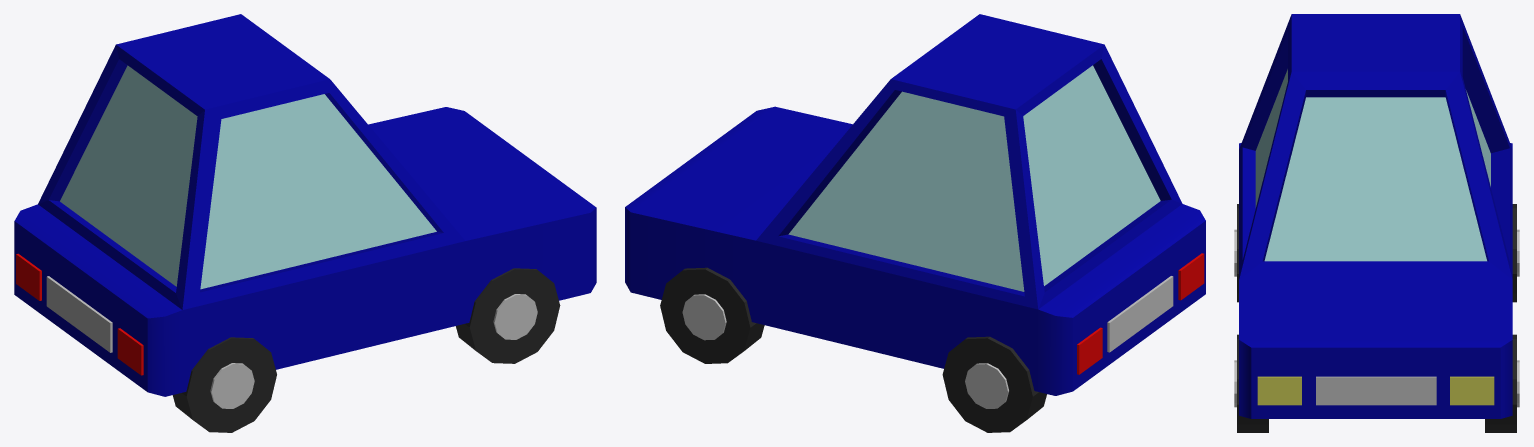
The model's file is Carro5.fbx.
3 renders of one model, left to right at view 1: azimuth 30°, elevation 25°; view 2: azimuth 150°, elevation 25°; view 3: azimuth 270°, elevation 25°, orthographic. The views are drawn at different scales.
Parts seen in each view (by area): view 1: pCube85; view 2: pCube85; view 3: pCube85.
Part boxes in pixels (left/top/right/bottom): pCube85: left=14, top=14, right=596, bottom=432; pCube85: left=625, top=14, right=1205, bottom=432; pCube85: left=1234, top=14, right=1519, bottom=432.
Size of the model in its own units: 3.1 by 1.97 by 1.78.
